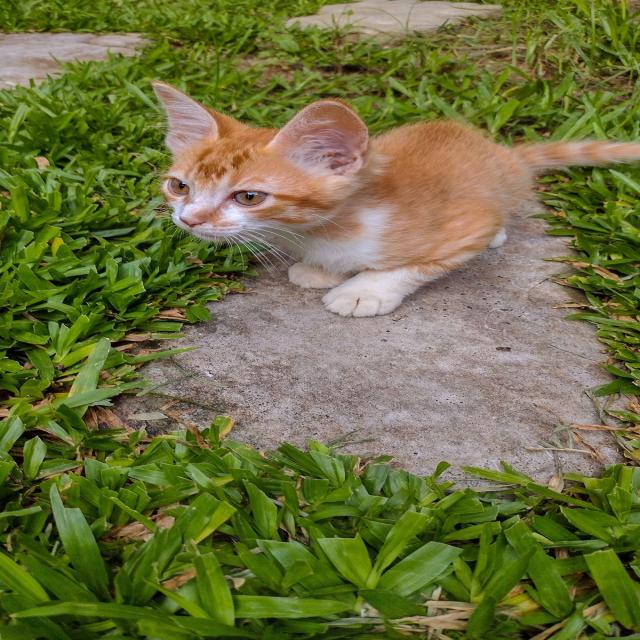sarman: (0, 54, 640, 442)
